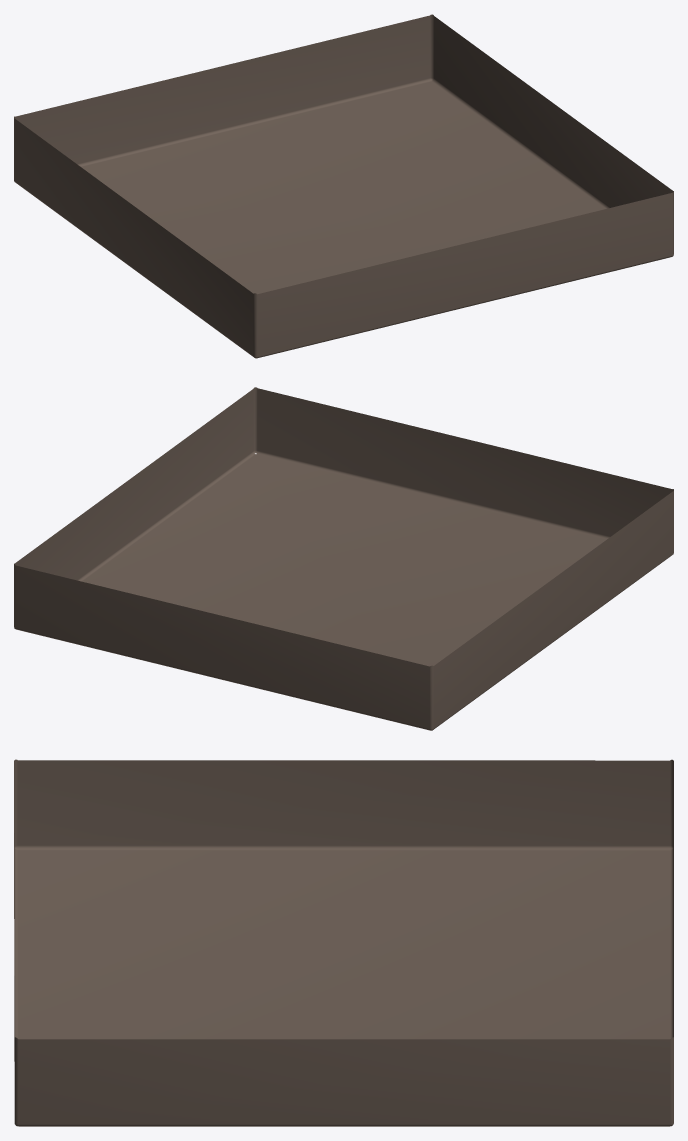
The model's file is vasca.gltf.
The picture shows the model from 3 angles, top to bottom: view 1: azimuth 30°, elevation 25°; view 2: azimuth 150°, elevation 25°; view 3: azimuth 270°, elevation 25°; orthographic projection. The views are drawn at different scales.
Parts seen in each view (by area): view 1: Vasca; view 2: Vasca; view 3: Vasca.
Boxes of the visible parts, bbox=[...] form: Vasca: bbox=[14, 14, 673, 358]; Vasca: bbox=[14, 387, 673, 730]; Vasca: bbox=[14, 759, 673, 1126].
Size of the model in its own units: 30.38 by 4.56 by 30.38.
